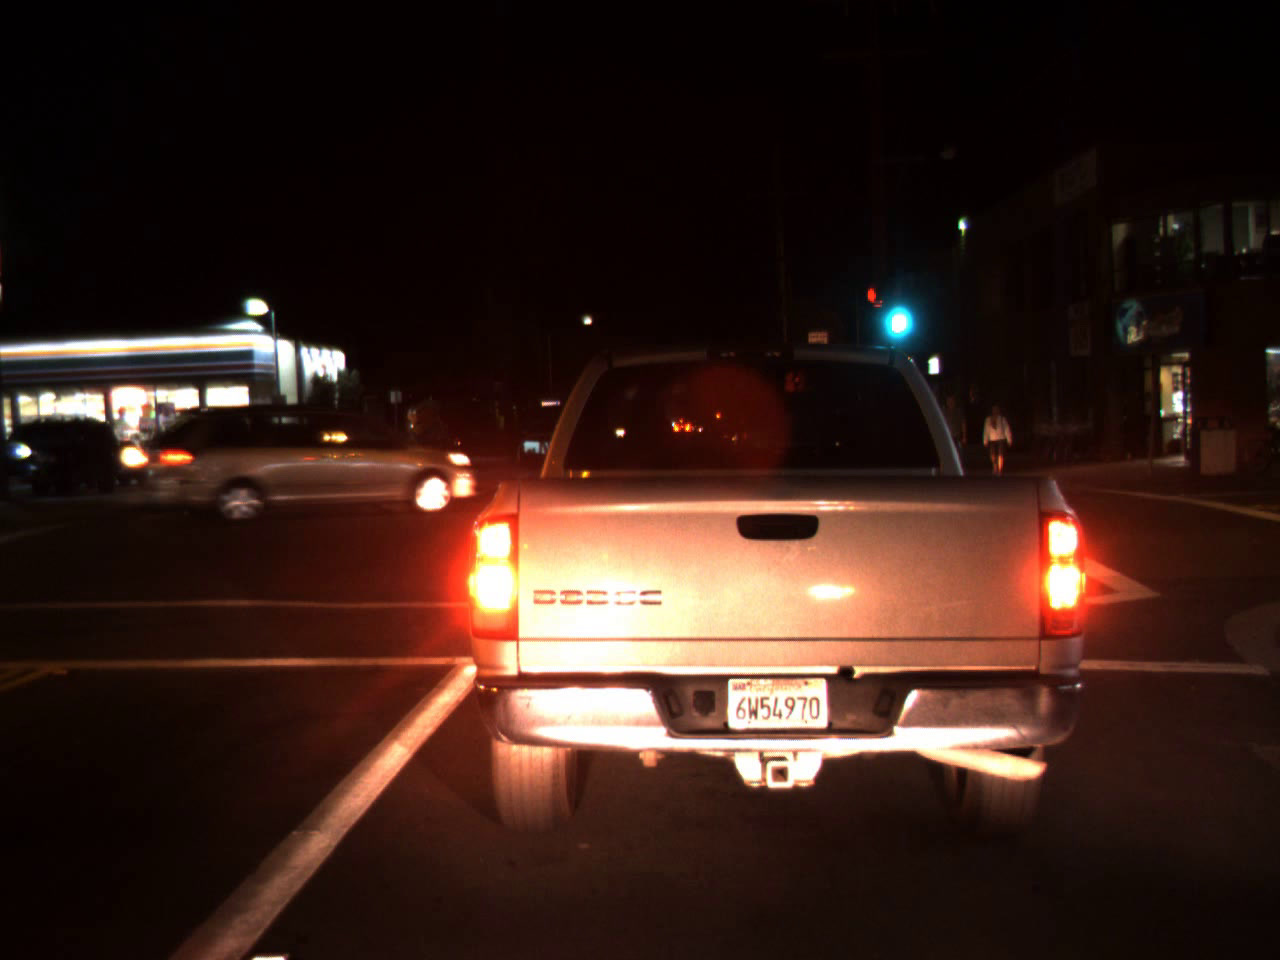go: (875, 274, 912, 346)
